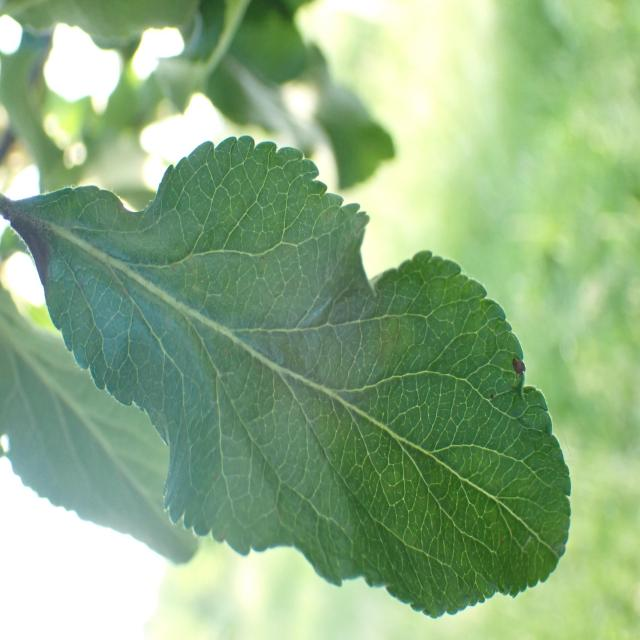scab: (59, 188, 552, 526)
